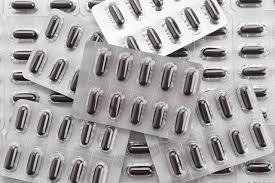pill_Strip: (145, 84, 273, 181), (73, 42, 201, 138), (0, 100, 128, 182), (192, 8, 273, 123), (192, 12, 272, 122), (195, 15, 272, 120), (0, 16, 71, 128), (92, 0, 226, 54), (23, 10, 102, 97), (0, 17, 51, 128), (231, 7, 273, 123), (189, 13, 234, 90), (195, 28, 231, 87), (1, 49, 37, 105), (120, 131, 157, 182), (1, 0, 102, 15), (4, 144, 44, 179), (3, 0, 85, 17), (63, 153, 111, 181), (152, 148, 187, 179), (238, 153, 274, 180), (82, 155, 117, 182), (239, 154, 273, 179), (121, 162, 156, 181), (199, 166, 238, 181), (47, 0, 84, 15), (255, 89, 272, 121), (229, 0, 274, 12), (126, 132, 149, 155), (7, 25, 38, 42), (205, 20, 230, 39), (3, 144, 19, 170), (168, 150, 184, 176), (196, 99, 212, 124), (48, 154, 63, 180), (161, 64, 176, 90), (138, 59, 153, 85), (175, 108, 190, 134), (210, 136, 225, 162), (26, 150, 41, 176), (238, 86, 254, 110), (183, 70, 198, 95), (94, 50, 109, 75), (86, 89, 101, 114), (117, 55, 132, 80), (217, 93, 232, 118), (49, 59, 66, 81), (9, 0, 40, 12), (45, 15, 61, 38), (108, 3, 124, 26), (29, 50, 45, 73), (238, 23, 266, 36), (239, 44, 267, 57), (251, 123, 266, 147), (230, 130, 245, 154), (66, 26, 82, 48), (146, 28, 162, 50), (131, 97, 144, 124), (152, 103, 166, 128), (184, 7, 199, 30), (80, 0, 103, 15), (80, 121, 94, 145), (15, 106, 29, 130), (101, 126, 115, 150), (58, 116, 72, 140), (37, 111, 51, 135), (165, 17, 180, 39), (204, 0, 219, 22), (69, 159, 84, 181), (239, 45, 266, 57), (190, 144, 203, 168), (109, 93, 122, 117), (201, 47, 226, 59), (175, 110, 188, 132), (246, 162, 272, 173), (12, 29, 37, 40), (241, 66, 266, 77), (50, 0, 75, 11), (92, 164, 107, 182), (48, 92, 72, 103), (203, 68, 226, 79), (127, 165, 152, 175), (167, 47, 189, 58), (239, 24, 263, 34), (12, 92, 38, 101), (127, 142, 148, 153), (207, 27, 227, 37), (12, 50, 30, 61), (11, 71, 29, 82), (70, 70, 79, 92), (11, 1, 34, 9), (236, 0, 262, 7), (129, 0, 141, 15), (12, 71, 28, 82), (211, 167, 233, 175), (213, 168, 232, 177), (126, 36, 139, 49), (253, 87, 267, 97), (90, 31, 104, 41), (87, 0, 100, 8), (153, 0, 162, 10), (262, 109, 268, 119), (217, 0, 224, 5)
